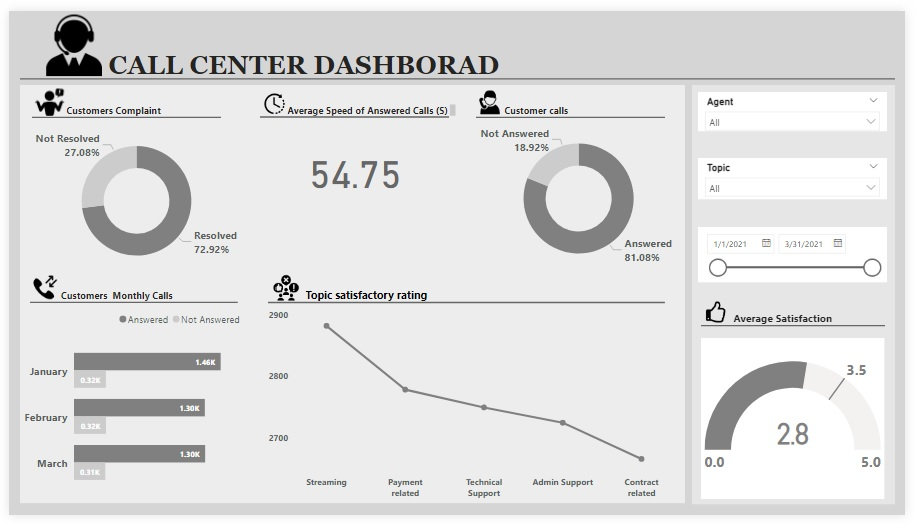

This screenshot's page, from the dashboard's own definition file:
{"tool":"powerbi","page":{"name":"Page 1","canvas":[1280,720],"ordinal":0},"visuals":[{"type":"shape","box":[16,106,950,598],"z":0},{"type":"shape","box":[975.7,105.7,290,598.6],"z":1000},{"type":"textbox","box":[137.1,44.3,1005.7,65.7],"z":2000},{"type":"donutChart","fields":{"Category":["Sheet1.Resolved"],"Y":["CountNonNull(Sheet1.Resolved)"]},"box":[37.1,155.7,290,231.4],"z":3000},{"type":"donutChart","fields":{"Category":["Sheet1.Answered (Y/N)"],"Y":["CountNonNull(Sheet1.Answered (Y/N))"]},"box":[665.7,152.9,295.7,230],"z":4000},{"type":"card","fields":{"Values":["Avg(Sheet1.Speed of answer in seconds)"]},"box":[358.6,157.3,270.7,138.9],"z":5000},{"type":"clusteredBarChart","fields":{"Category":["Sheet1.Date.Variation.Date Hierarchy.Month"],"Series":["Sheet1.Answered (Y/N)"],"Y":["CountNonNull(Sheet1.Call Id)"]},"box":[16,420,324,284],"z":6000},{"type":"gauge","fields":{"Y":["Avg(Sheet1.Satisfaction rating)"]},"box":[987.9,467.7,262.2,229.6],"z":7000},{"type":"slicer","fields":{"Values":["Sheet1.Date"]},"box":[984.3,308.6,270,78.6],"z":8000},{"type":"slicer","fields":{"Values":["Sheet1.Topic"]},"box":[984.3,210,270,58.6],"z":9000},{"type":"slicer","fields":{"Values":["Sheet1.Agent"]},"box":[984.3,115.7,270,55.7],"z":10000},{"type":"shape","box":[15.7,80,1250,34.3],"z":11000},{"type":"shape","box":[667.1,121.4,270,61.4],"z":12000},{"type":"shape","box":[32.9,121.4,270,61.4],"z":13000},{"type":"shape","box":[358.6,121.4,270,60],"z":14000},{"type":"shape","box":[30,394.3,297.1,44.3],"z":15000},{"type":"shape","box":[370,390,567.1,52.9],"z":16000},{"type":"textbox","box":[393.2,127.9,250.2,26.1],"z":17000},{"type":"textbox","box":[66,393.2,200.7,28.9],"z":18000},{"type":"textbox","box":[418,390.5,299.7,34.4],"z":19000},{"type":"textbox","box":[77,127.9,177.4,27.5],"z":20000},{"type":"textbox","box":[702.6,127.9,129.2,28.9],"z":21000},{"type":"image","box":[30,0,126,98],"z":22000},{"type":"image","box":[25.7,372.9,51.4,44.3],"z":23000},{"type":"lineChart","fields":{"Category":["Sheet1.Topic"],"Y":["Sum(Sheet1.Satisfaction rating)"]},"box":[358.6,420,602.9,284.3],"z":24000},{"type":"image","box":[30,105.7,55.7,48.6],"z":25000},{"type":"image","box":[658.6,108.6,55.7,44.3],"z":26000},{"type":"shape","box":[988.6,431.4,262.9,35.7],"z":27000},{"type":"image","box":[981.2,410,55,40],"z":28000},{"type":"textbox","box":[1029.8,423.5,180.1,38.5],"z":29000},{"type":"image","box":[354.3,360,82.9,71.4],"z":30000},{"type":"image","box":[352.9,112.9,52.9,38.6],"z":31000}]}

Visuals, with their boxes in screenshot pixels (x1, y1, x2, y2), scaled from the page's 1280x720 canvas onto the 916x528 screenshot:
shape: (11,78,691,516)
shape: (698,78,906,516)
textbox: (98,32,818,81)
donutChart - Sheet1.Resolved x CountNonNull(Sheet1.Resolved): (27,114,234,284)
donutChart - Sheet1.Answered (Y/N) x CountNonNull(Sheet1.Answered (Y/N)): (476,112,688,281)
card - Avg(Sheet1.Speed of answer in seconds): (257,115,450,217)
clusteredBarChart - Sheet1.Date.Variation.Date Hierarchy.Month x Sheet1.Answered (Y/N): (11,308,243,516)
gauge - Avg(Sheet1.Satisfaction rating): (707,343,895,511)
slicer - Sheet1.Date: (704,226,898,284)
slicer - Sheet1.Topic: (704,154,898,197)
slicer - Sheet1.Agent: (704,85,898,126)
shape: (11,59,906,84)
shape: (477,89,671,134)
shape: (24,89,217,134)
shape: (257,89,450,133)
shape: (21,289,234,322)
shape: (265,286,671,325)
textbox: (281,94,460,113)
textbox: (47,288,191,310)
textbox: (299,286,514,312)
textbox: (55,94,182,114)
textbox: (503,94,595,115)
image: (21,0,112,72)
image: (18,273,55,306)
lineChart - Sheet1.Topic x Sum(Sheet1.Satisfaction rating): (257,308,688,516)
image: (21,78,61,113)
image: (471,80,511,112)
shape: (707,316,896,343)
image: (702,301,742,330)
textbox: (737,311,866,339)
image: (254,264,313,316)
image: (253,83,290,111)
